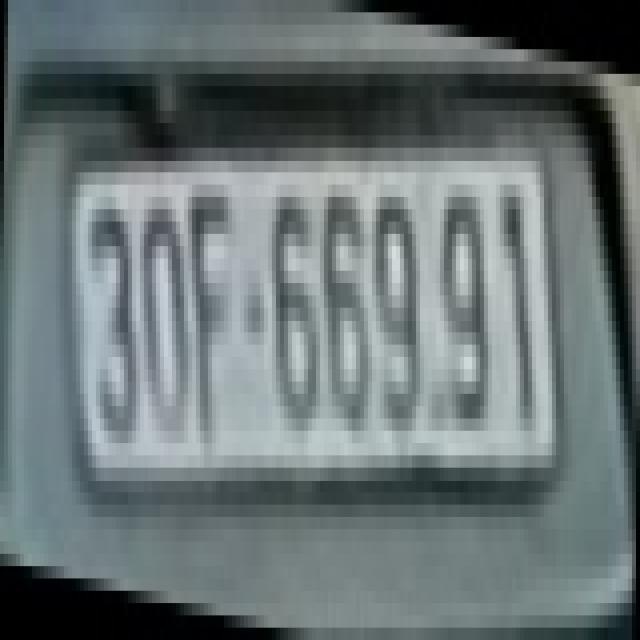0: (140, 197, 188, 456)
1: (500, 172, 540, 431)
3: (88, 197, 140, 443)
6: (272, 184, 320, 430), (324, 184, 368, 430)
9: (436, 184, 492, 430), (372, 184, 420, 430)
F: (188, 184, 232, 456)
